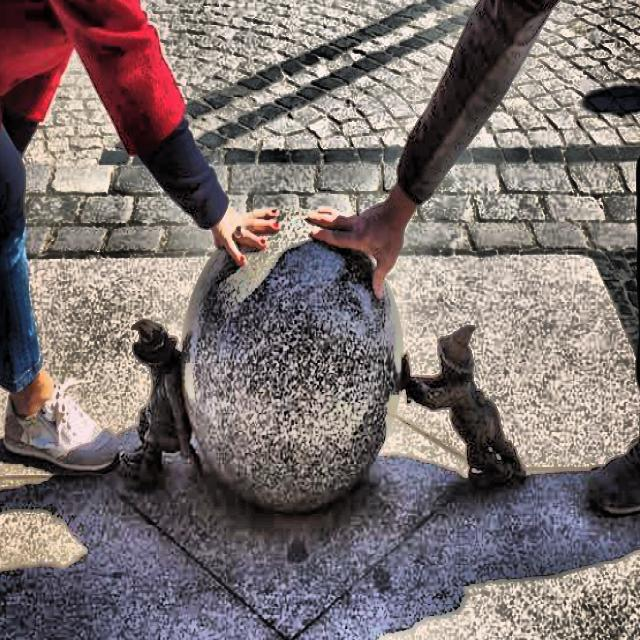Syzyfki: (102, 200, 543, 526)
